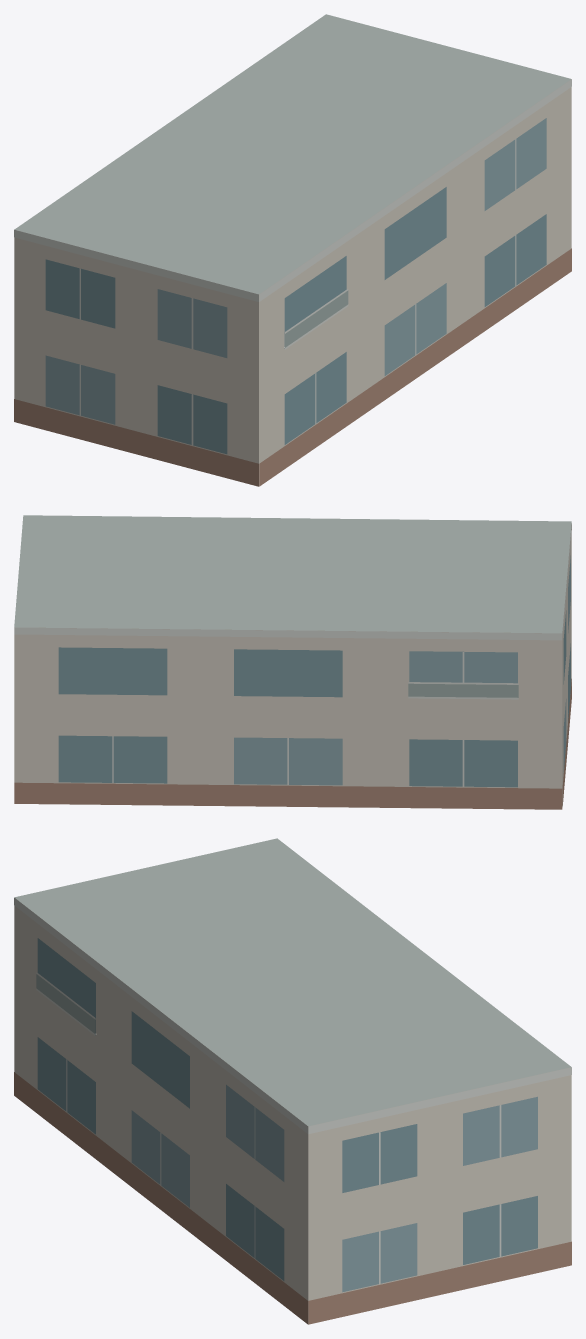
Rendered from survey-upis-32625959.glb.
3 renders of one model, top to bottom at view 1: azimuth 30°, elevation 25°; view 2: azimuth 150°, elevation 25°; view 3: azimuth 270°, elevation 25°, orthographic. The views are drawn at different scales.
Parts seen in each view (by area): view 1: survey-upis-32625959.tmp; view 2: survey-upis-32625959.tmp; view 3: survey-upis-32625959.tmp.
Part boxes in pixels (x1,y1,x2,y2): survey-upis-32625959.tmp: (14, 14, 571, 486); survey-upis-32625959.tmp: (14, 515, 571, 809); survey-upis-32625959.tmp: (14, 838, 571, 1324).
Bounding box in the file's own units: 19.03 × 6.1 × 15.57.
